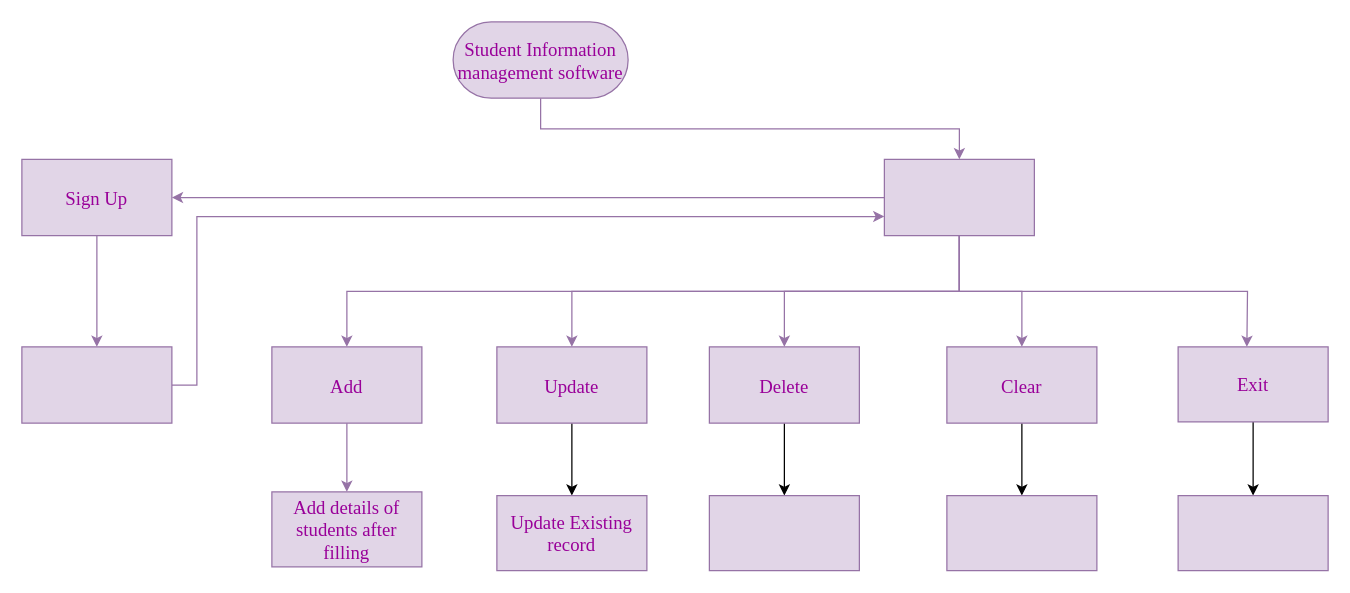
Some shapes in this 1350 by 593 pixel diagram are drawn without their labels. Here are the shapes that lost their labels. From the top down, the centre of each, then its label:
(958,197): Login
(96,384): Create a new Id
(783,532): Delete Existing record
(1021,532): Clear Screen
(1252,532): Exit and close the Application
